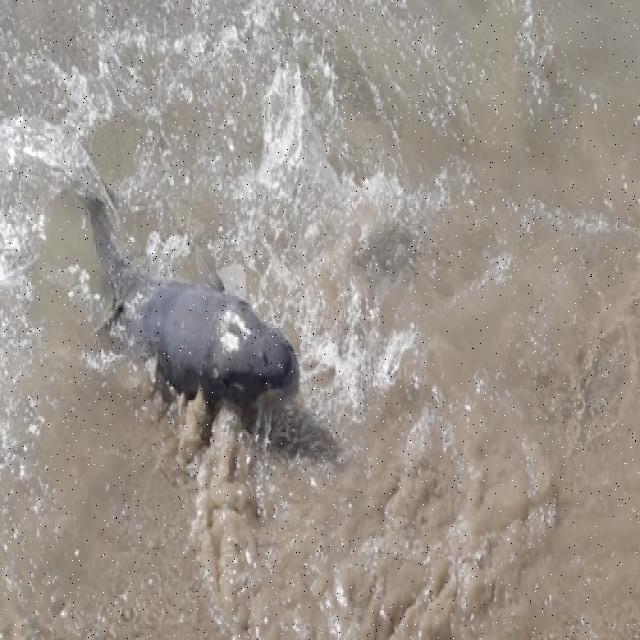Balik: (84, 197, 298, 407)
